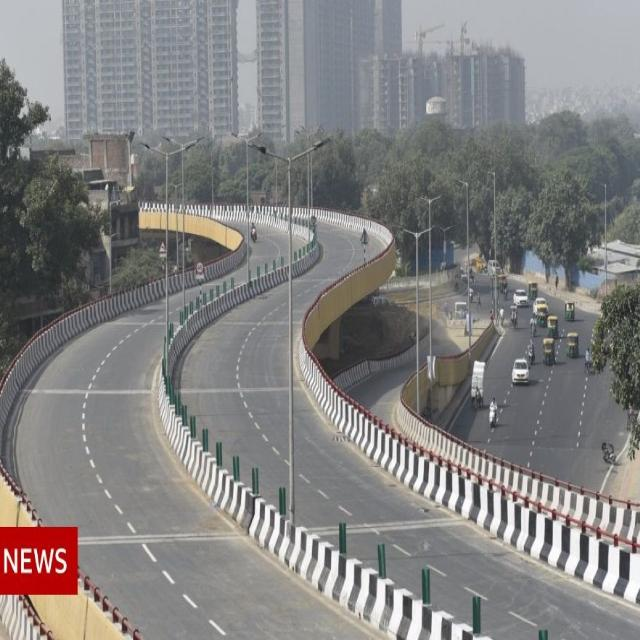Clean road: (0, 244, 640, 640)
